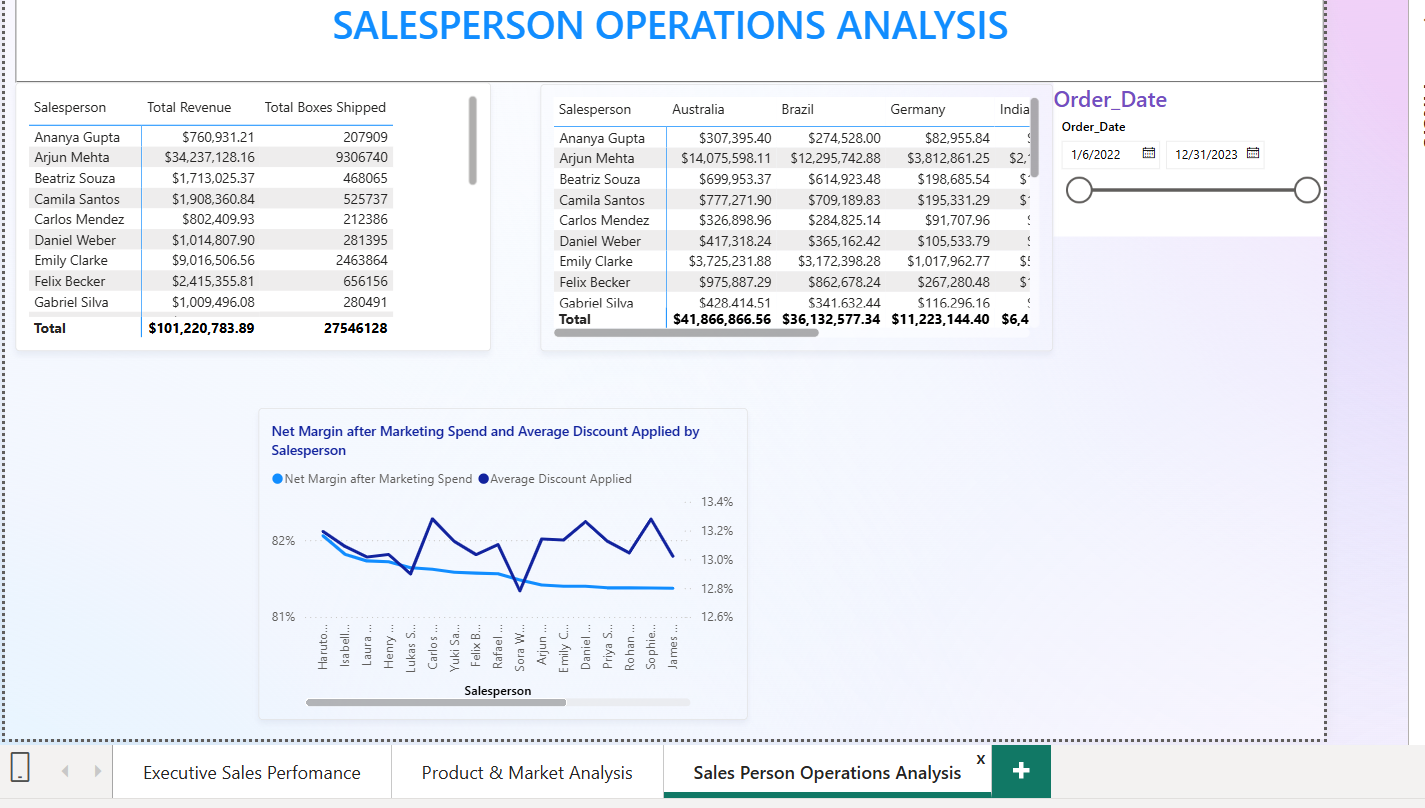

This screenshot's page, from the dashboard's own definition file:
{"tool":"powerbi","page":{"name":"Sales Person Operations Analysis","canvas":[1280,720],"ordinal":2},"visuals":[{"type":"textbox","title":"SALESPERSON OPERATIONS ANALYSIS","box":[9.7,0,1269.5,82.6],"z":0},{"type":"slicer","title":"Order_Date","fields":{"Values":["Chocolate_Sales.Order_Date"]},"box":[1016.9,82.6,262.3,149],"z":1000},{"type":"pivotTable","fields":{"Rows":["Chocolate_Sales.Salesperson"],"Values":["Chocolate_Sales.Total Revenue","Chocolate_Sales.Total Boxes Shipped"]},"box":[9.7,82.6,461.5,260.7],"z":2000},{"type":"pivotTable","fields":{"Rows":["Chocolate_Sales.Salesperson"],"Columns":["Chocolate_Sales.Country"],"Values":["Chocolate_Sales.Total Revenue"]},"box":[519.8,84.2,497.1,259.1],"z":3000},{"type":"lineChart","fields":{"Category":["Chocolate_Sales.Salesperson"],"Y":["Chocolate_Sales.Gross Profit Margin"],"Y2":["Chocolate_Sales.Average Discount Applied"]},"box":[246.1,398.3,474.4,302.8],"z":4000}]}

Visuals, with their boxes on the page's 1280x720 design canvas (x1, y1, x2, y2). These are canvas units, not pixel positions in the 1425x808 screenshot, which may show the page scaled, cropped or inside an application window:
"SALESPERSON OPERATIONS ANALYSIS" textbox: [10,0,1279,83]
"Order_Date" slicer: [1017,83,1279,232]
pivotTable - Chocolate_Sales.Salesperson x Chocolate_Sales.Total Revenue: [10,83,471,343]
pivotTable - Chocolate_Sales.Salesperson x Chocolate_Sales.Country: [520,84,1017,343]
lineChart - Chocolate_Sales.Salesperson x Chocolate_Sales.Gross Profit Margin: [246,398,720,701]
